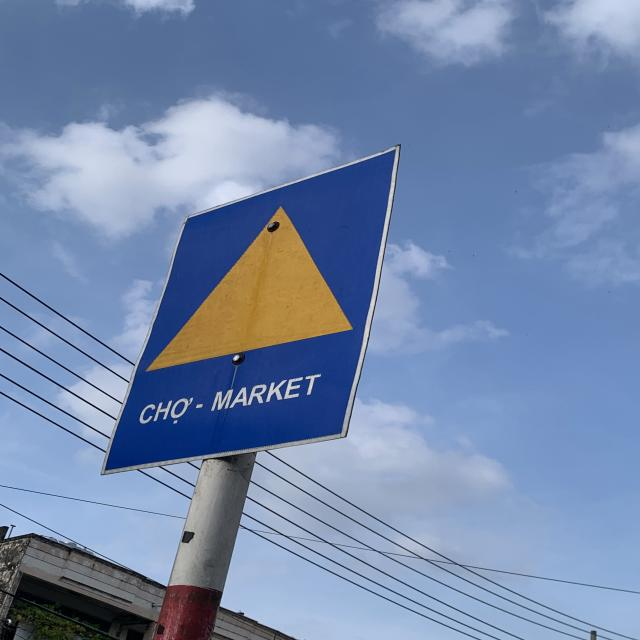Cho_Quay_Xe: (102, 144, 406, 479)
